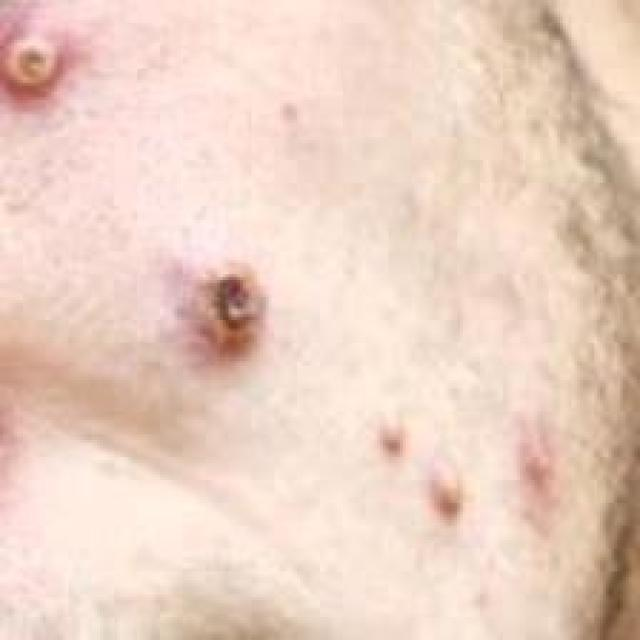monkeypox: (0, 5, 572, 605)
